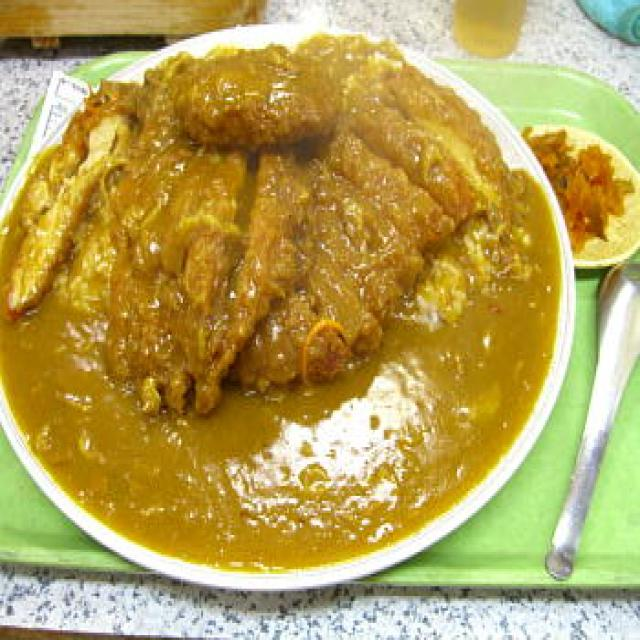猪肉菜式: (0, 7, 580, 594)
